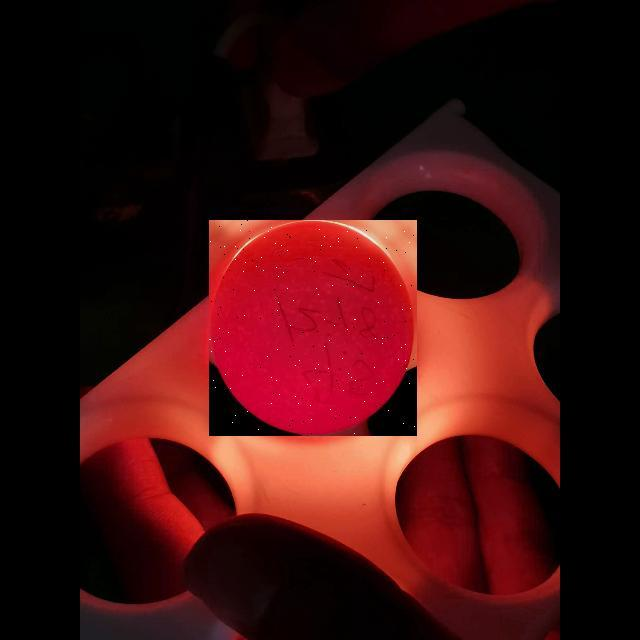Infertile: (209, 220, 417, 436)
